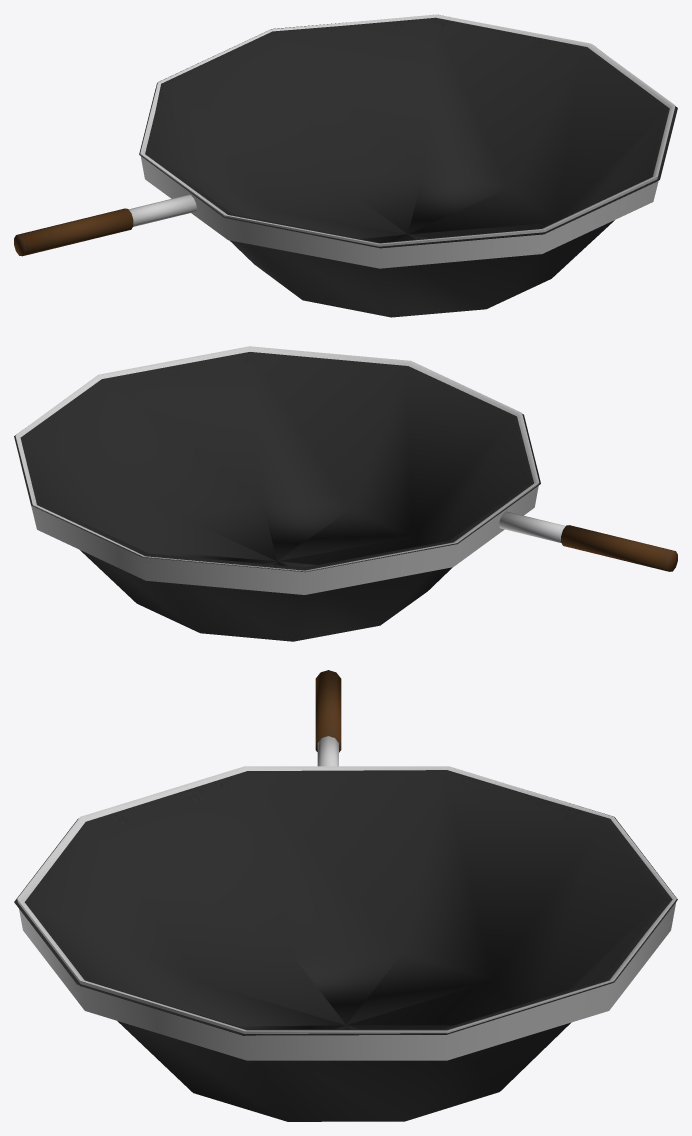
The model's file is wok.dae.
3 views of the same model, one above another, from view 1: azimuth 30°, elevation 25°; view 2: azimuth 150°, elevation 25°; view 3: azimuth 270°, elevation 25° (orthographic). The views are drawn at different scales.
Visible parts, largest first — view 1: Polygon; view 2: Polygon; view 3: Polygon.
Part boxes in pixels (x1,y1,x2,y2): Polygon: (14, 14, 677, 317); Polygon: (14, 346, 677, 641); Polygon: (14, 670, 677, 1121).
Size of the model in its own units: 783 by 147 by 599.
Materials: 4 (1 with a texture image).
